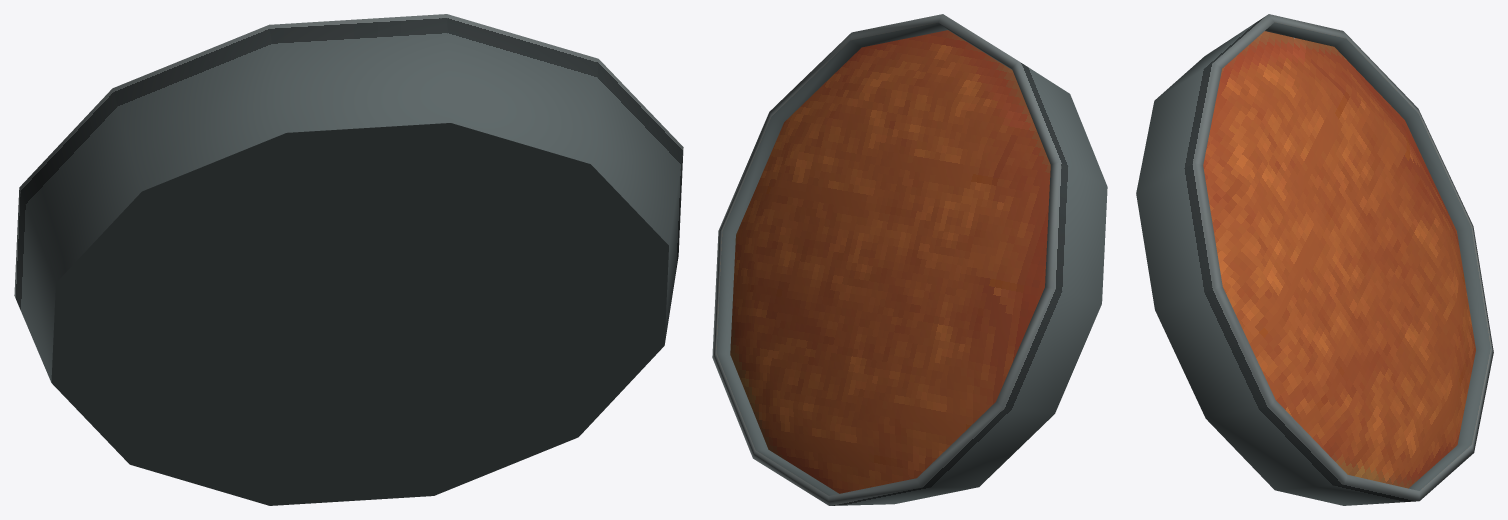
The model's file is H_CakePan.fbx.
3 views of the same model, side by side, from view 1: azimuth 30°, elevation 25°; view 2: azimuth 150°, elevation 25°; view 3: azimuth 270°, elevation 25° (orthographic). The views are drawn at different scales.
Parts seen in each view (by area): view 1: Cake001; view 2: Cake001; view 3: Cake001.
Part boxes in pixels (bbox=[...]): Cake001: bbox=[14, 14, 683, 505]; Cake001: bbox=[712, 14, 1107, 505]; Cake001: bbox=[1136, 14, 1493, 505].
Bounding box in the file's own units: 46.36 × 43.83 × 33.91.
